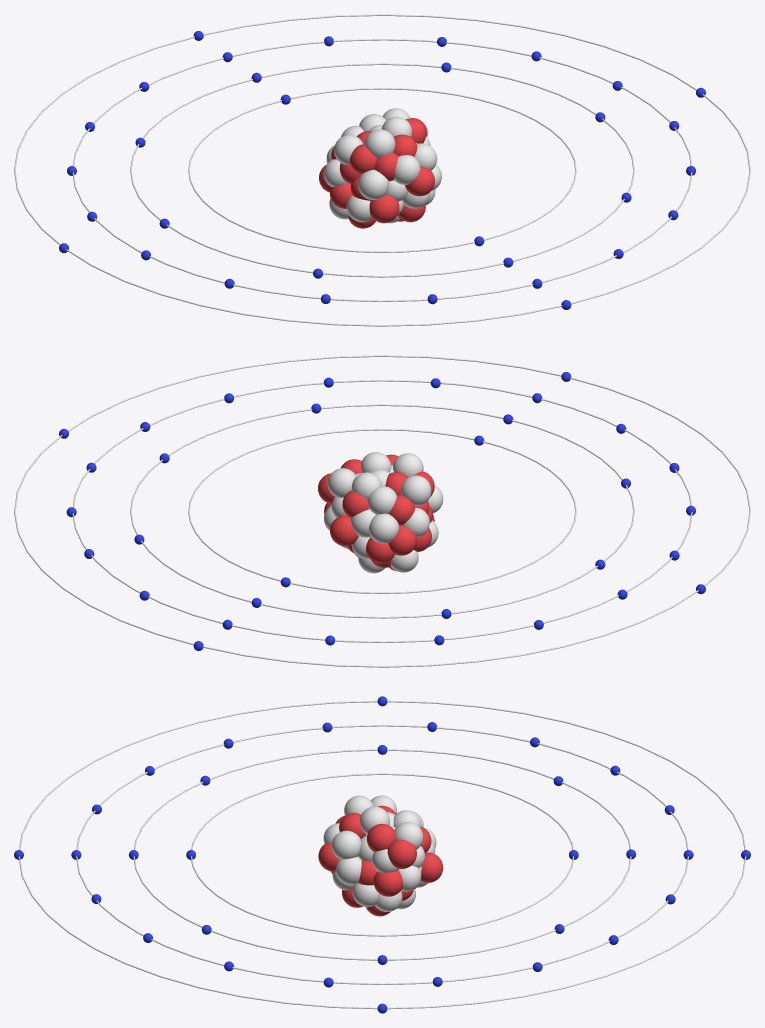
Rendered from Germanium.glb.
The picture shows the model from 3 angles, top to bottom: view 1: azimuth 30°, elevation 25°; view 2: azimuth 150°, elevation 25°; view 3: azimuth 270°, elevation 25°; orthographic projection.
Parts seen in each view (by area): view 1: N-Schale, M-Schale, L-Schale, K-Schale, Neutron 40, Neutron 37, Proton 24, Neutron 38, Proton 28, Proton 32, Neutron 35, Neutron 14; view 2: N-Schale, M-Schale, L-Schale, K-Schale, Neutron 8, Neutron 35, Proton 18, Neutron 16, Neutron 36, Proton 4, Neutron 37, Neutron 30; view 3: N-Schale, M-Schale, L-Schale, K-Schale, Neutron 41, Proton 29, Proton 31, Proton 26, Neutron 39, Neutron 31, Proton 18, Neutron 36.
Part boxes in pixels (bbox=[...]): N-Schale: bbox=[14, 14, 750, 326]; M-Schale: bbox=[72, 39, 692, 301]; L-Schale: bbox=[130, 63, 634, 277]; K-Schale: bbox=[188, 88, 576, 252]; Neutron 40: bbox=[358, 169, 388, 199]; Neutron 37: bbox=[364, 129, 395, 158]; Proton 24: bbox=[369, 194, 399, 223]; Neutron 38: bbox=[394, 155, 420, 184]; Proton 28: bbox=[349, 144, 377, 174]; Proton 32: bbox=[405, 166, 434, 196]; Neutron 35: bbox=[334, 135, 362, 164]; Neutron 14: bbox=[346, 195, 372, 222]; N-Schale: bbox=[14, 355, 750, 667]; M-Schale: bbox=[72, 380, 692, 642]; L-Schale: bbox=[130, 404, 634, 618]; K-Schale: bbox=[188, 429, 576, 593]; Neutron 8: bbox=[369, 513, 399, 543]; Neutron 35: bbox=[401, 475, 431, 505]; Proton 18: bbox=[330, 515, 358, 546]; Neutron 16: bbox=[368, 486, 396, 514]; Neutron 36: bbox=[327, 468, 356, 497]; Proton 4: bbox=[388, 525, 416, 555]; Neutron 37: bbox=[393, 453, 423, 477]; Neutron 30: bbox=[351, 472, 382, 499]; N-Schale: bbox=[18, 700, 746, 1009]; M-Schale: bbox=[76, 725, 688, 984]; L-Schale: bbox=[133, 749, 631, 960]; K-Schale: bbox=[190, 773, 574, 936]; Neutron 41: bbox=[331, 830, 360, 859]; Proton 29: bbox=[387, 839, 416, 868]; Proton 31: bbox=[373, 870, 402, 896]; Proton 26: bbox=[366, 823, 395, 851]; Neutron 39: bbox=[335, 856, 361, 884]; Neutron 31: bbox=[360, 806, 390, 834]; Proton 18: bbox=[420, 852, 443, 882]; Neutron 36: bbox=[394, 822, 423, 849].
Bounding box in the file's own units: 19.26 × 3.03 × 19.26.
